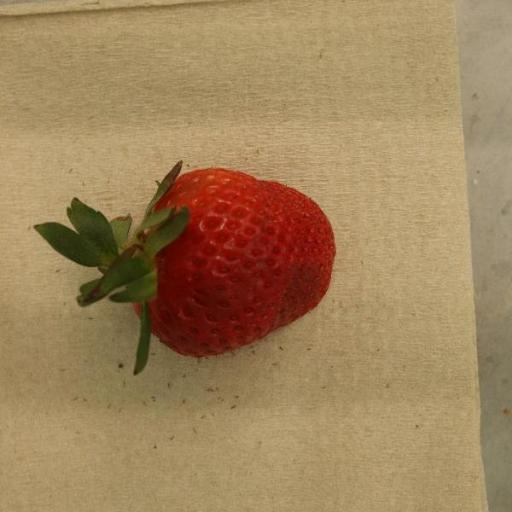Strawberry: (33, 161, 336, 376)
